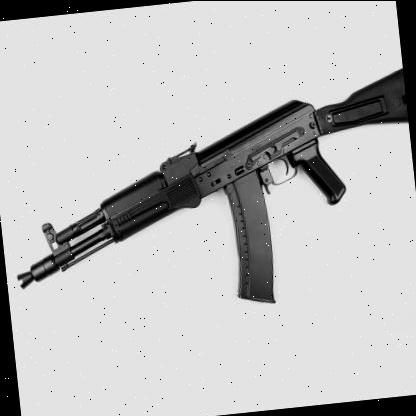rifle: (0, 56, 416, 346)
